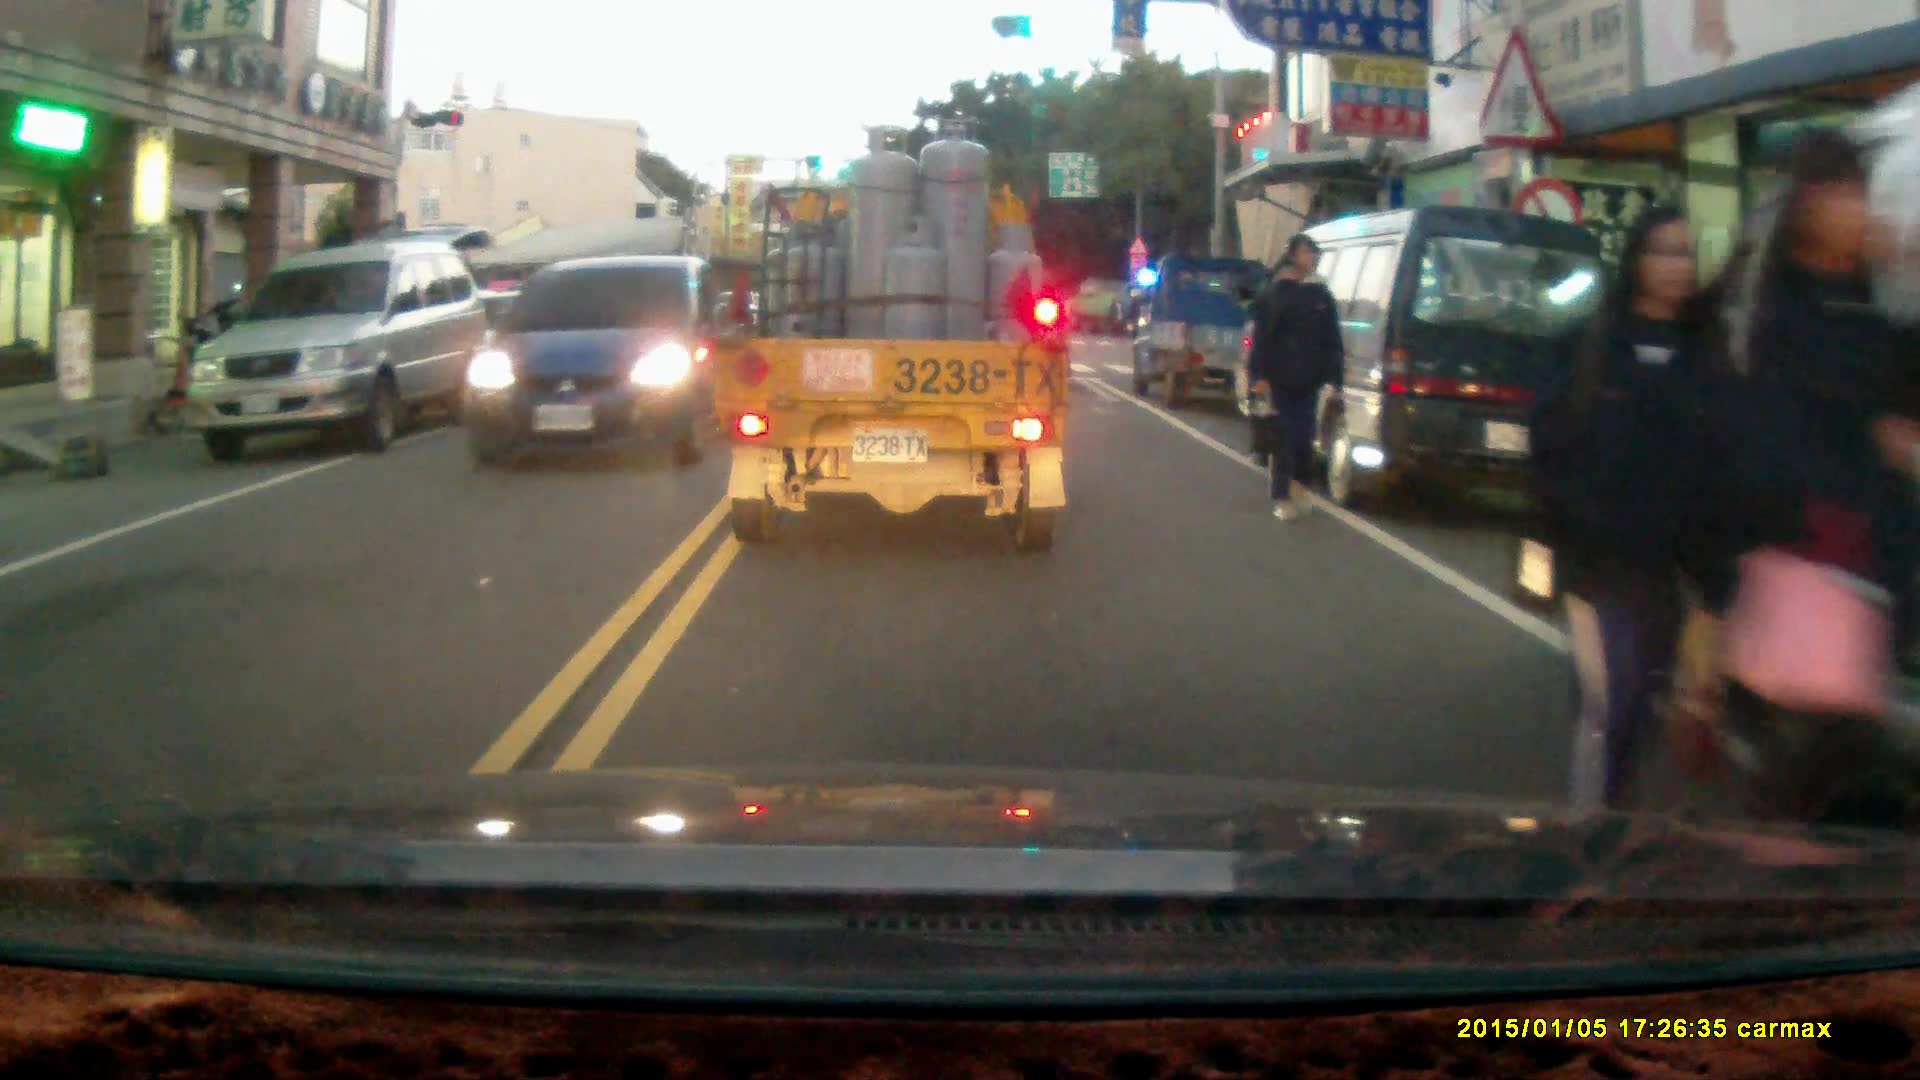pedestrian: (1655, 123, 1920, 861), (1535, 198, 1742, 867), (1251, 234, 1354, 530)
vehicle: (1650, 108, 1920, 797), (713, 119, 1074, 542), (1238, 203, 1627, 530), (191, 243, 491, 461), (465, 256, 756, 466), (407, 288, 588, 413), (1124, 248, 1256, 403)
